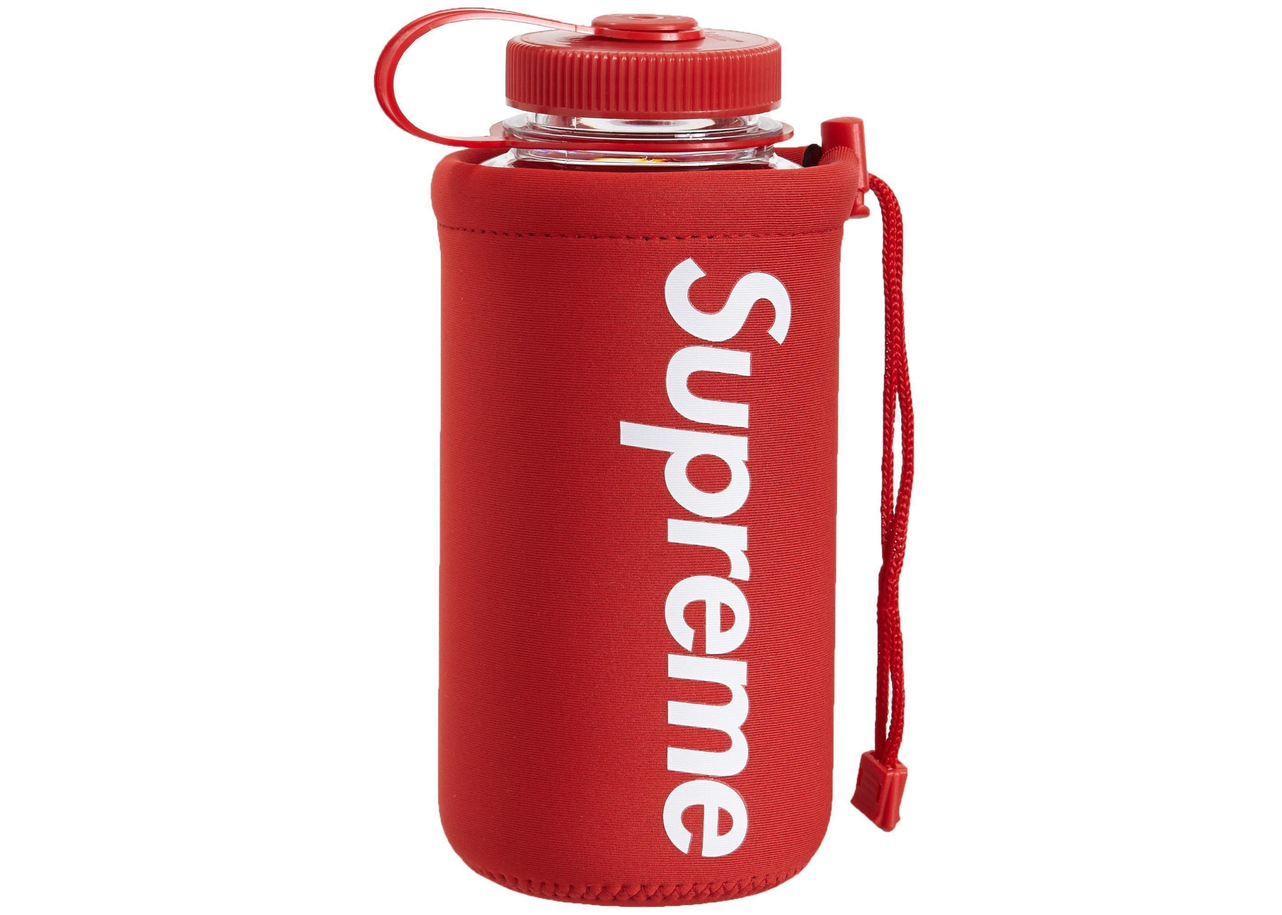gym bottle: (372, 5, 897, 911)
